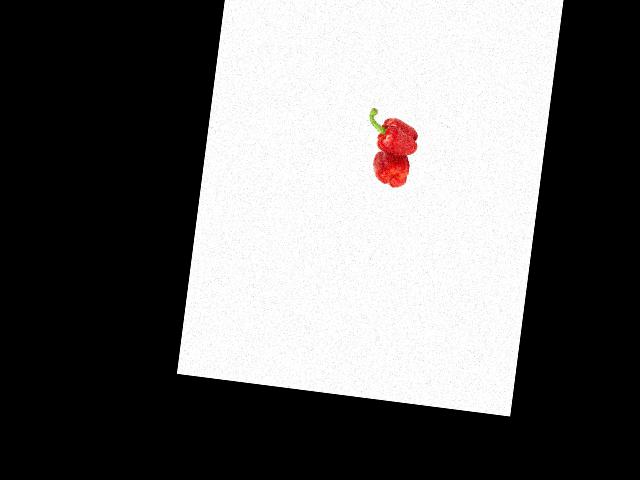bell_pepper: (368, 150, 413, 189)
